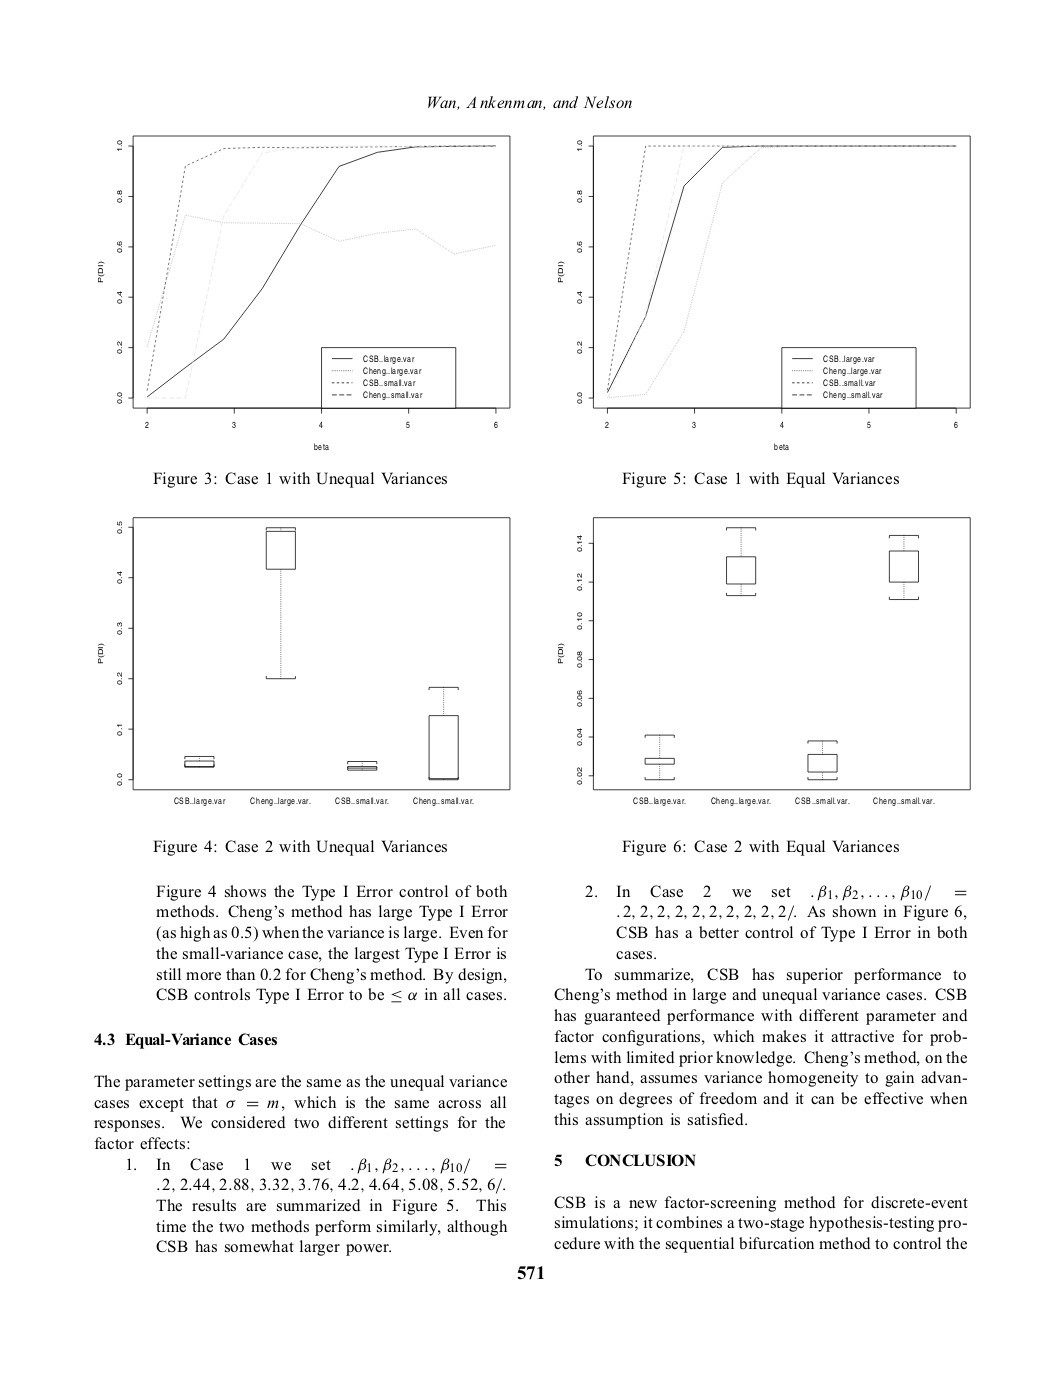figure: (557, 135, 970, 450), (97, 135, 510, 449), (97, 517, 510, 805), (557, 517, 970, 805)
